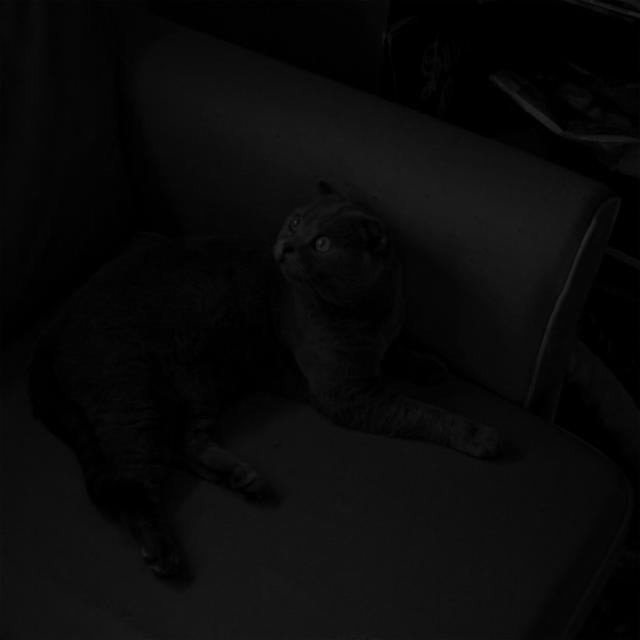Cat: (0, 167, 447, 569)
